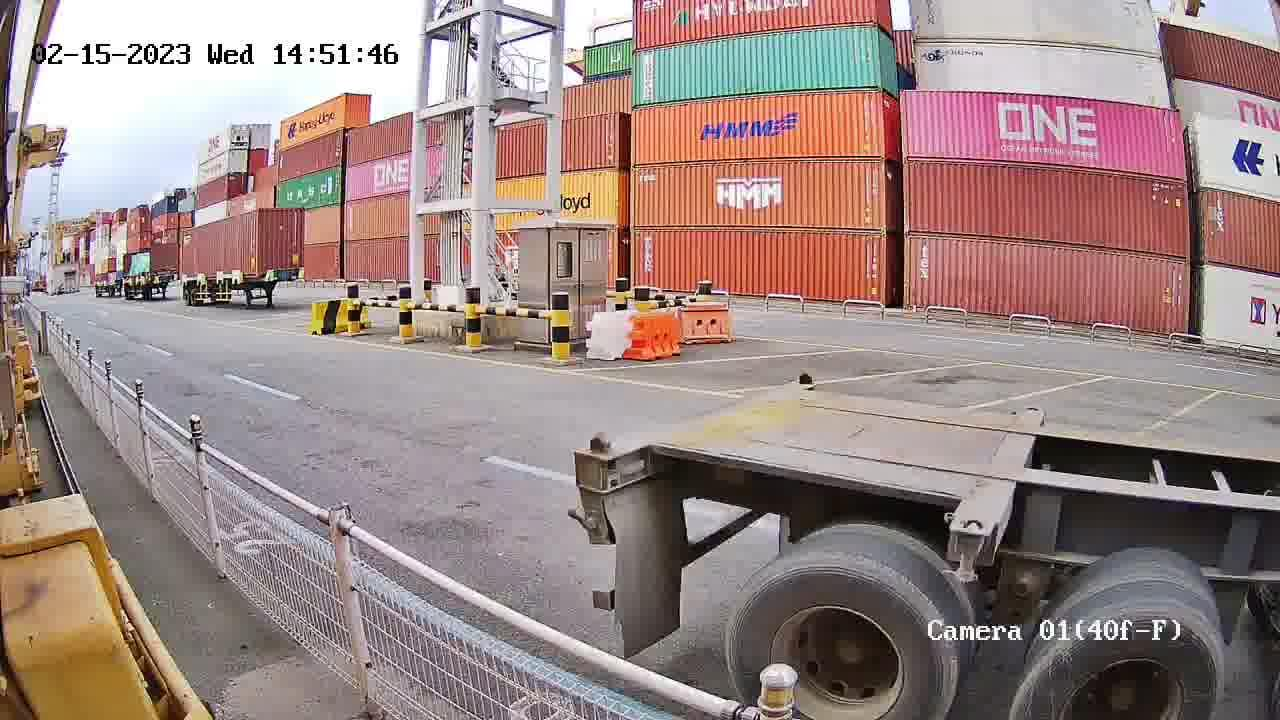Chassis: (578, 380, 819, 460)
Cone: (573, 428, 618, 494), (790, 371, 816, 389)
Tire: (726, 567, 949, 715), (1012, 612, 1222, 717)
